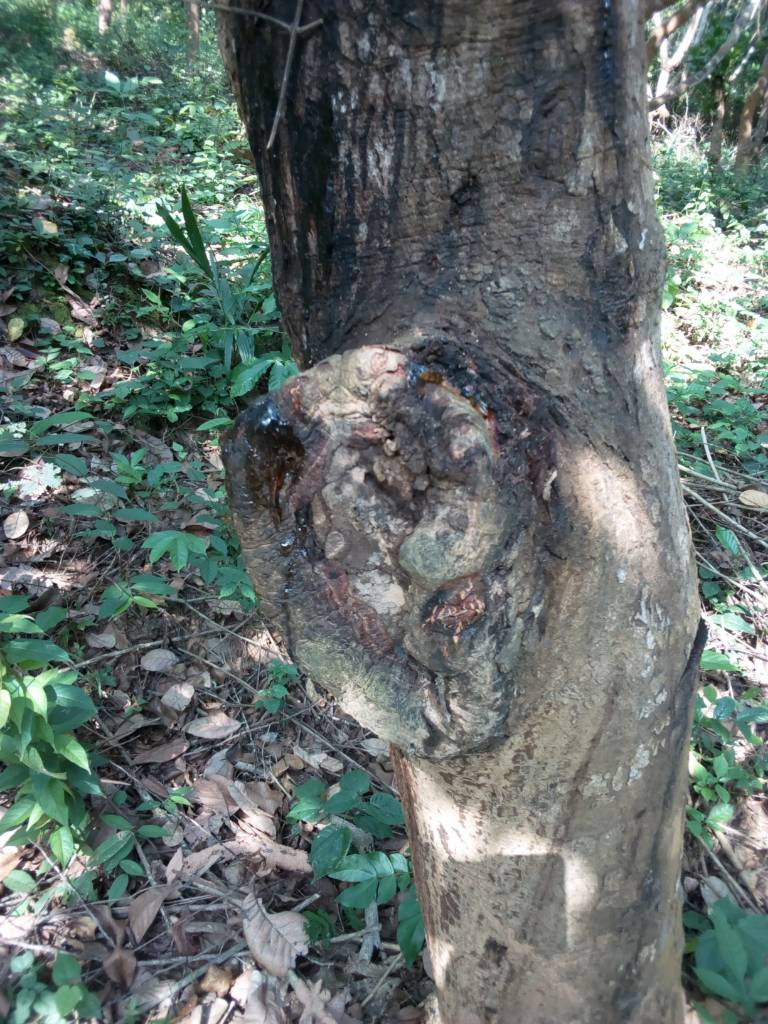Termites: (504, 632, 671, 1024)
